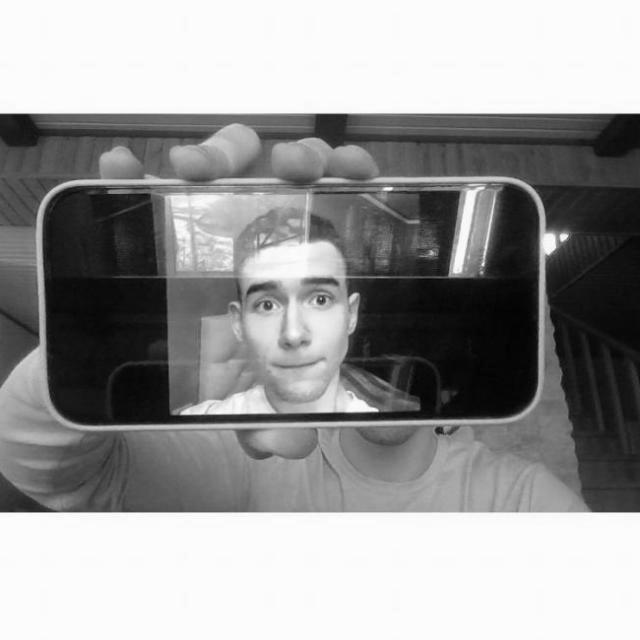fake: (41, 184, 537, 434)
